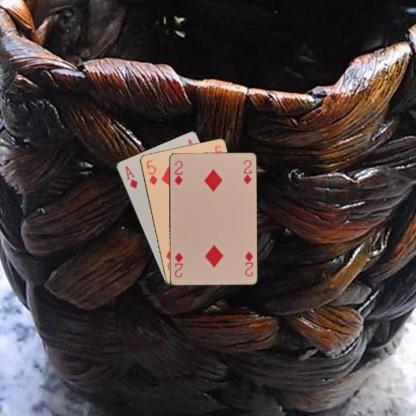2d: (242, 248, 254, 278), (172, 158, 184, 187)
5d: (144, 157, 158, 186)
Ad: (122, 163, 138, 190)
